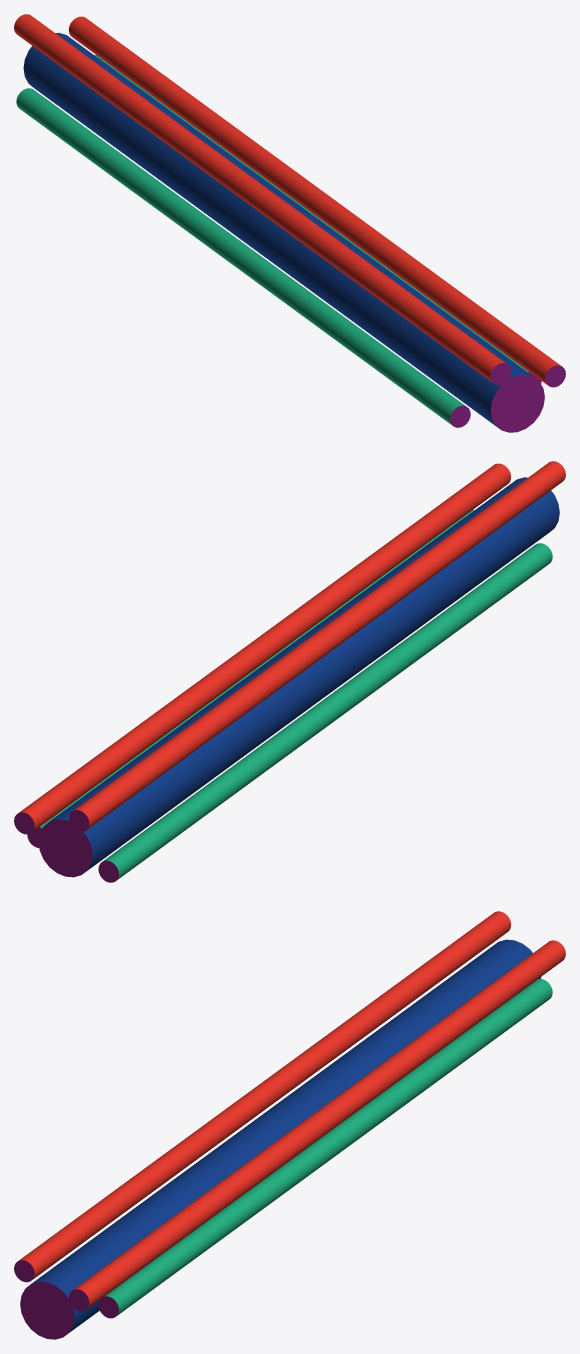
The model's file is Tubes_Cluster.fbx.
3 renders of one model, top to bottom at view 1: azimuth 30°, elevation 25°; view 2: azimuth 150°, elevation 25°; view 3: azimuth 330°, elevation 25°, orthographic.
Visible parts, largest first — view 1: polySurface33; view 2: polySurface33; view 3: polySurface33.
Boxes of the visible parts, x1,y1,x2,y2 form: polySurface33: (14,14,565,432); polySurface33: (14,461,565,882); polySurface33: (14,911,565,1339).
Size of the model in its own units: 0.4173 by 0.3503 by 3.75.
1 material, 1 textured.
